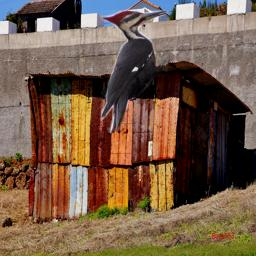Woodpecker: (100, 10, 170, 133)
